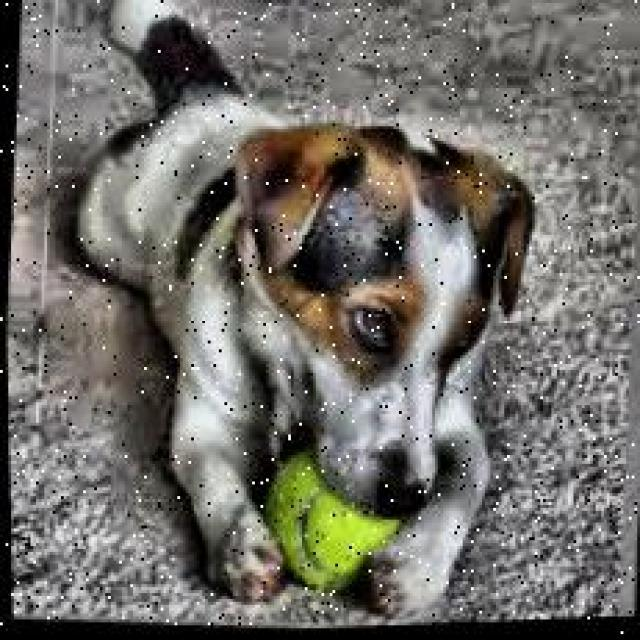tennis-ball: (253, 442, 405, 606)
